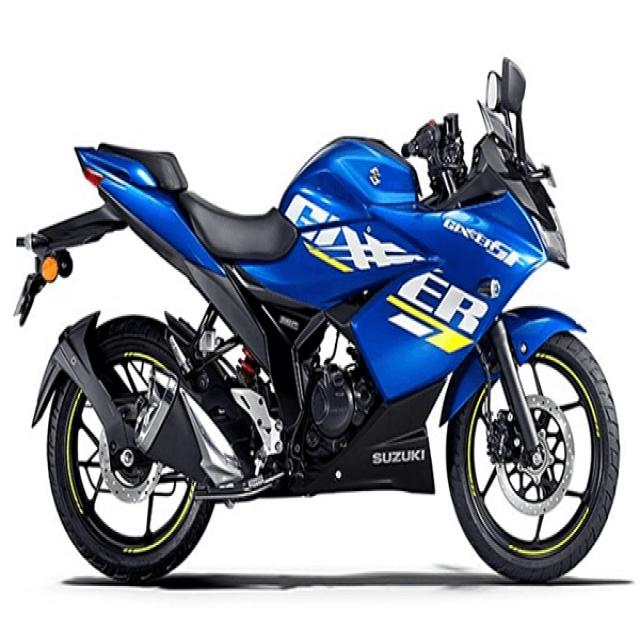motorcycle: (16, 59, 619, 581)
